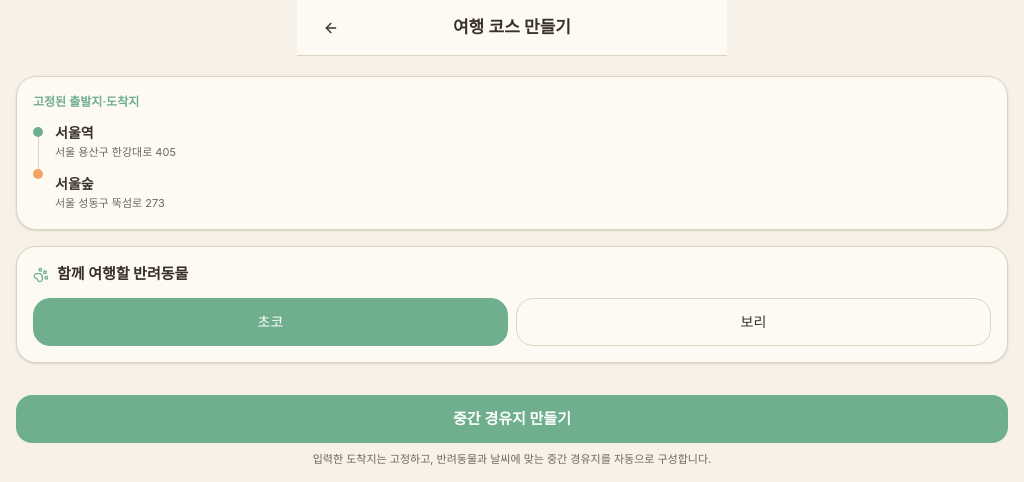
MapRouteOptionsScreen › shows pets and changes the selected pet
Click the button "보리" at (754, 322), box [516,298,991,346]
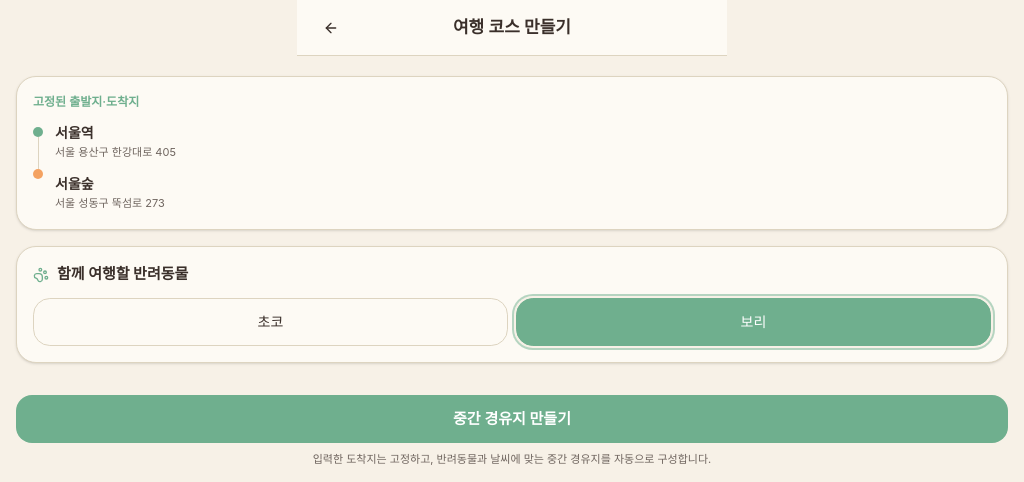
Check: the button "보리" is pressed, box [516,298,991,346]
